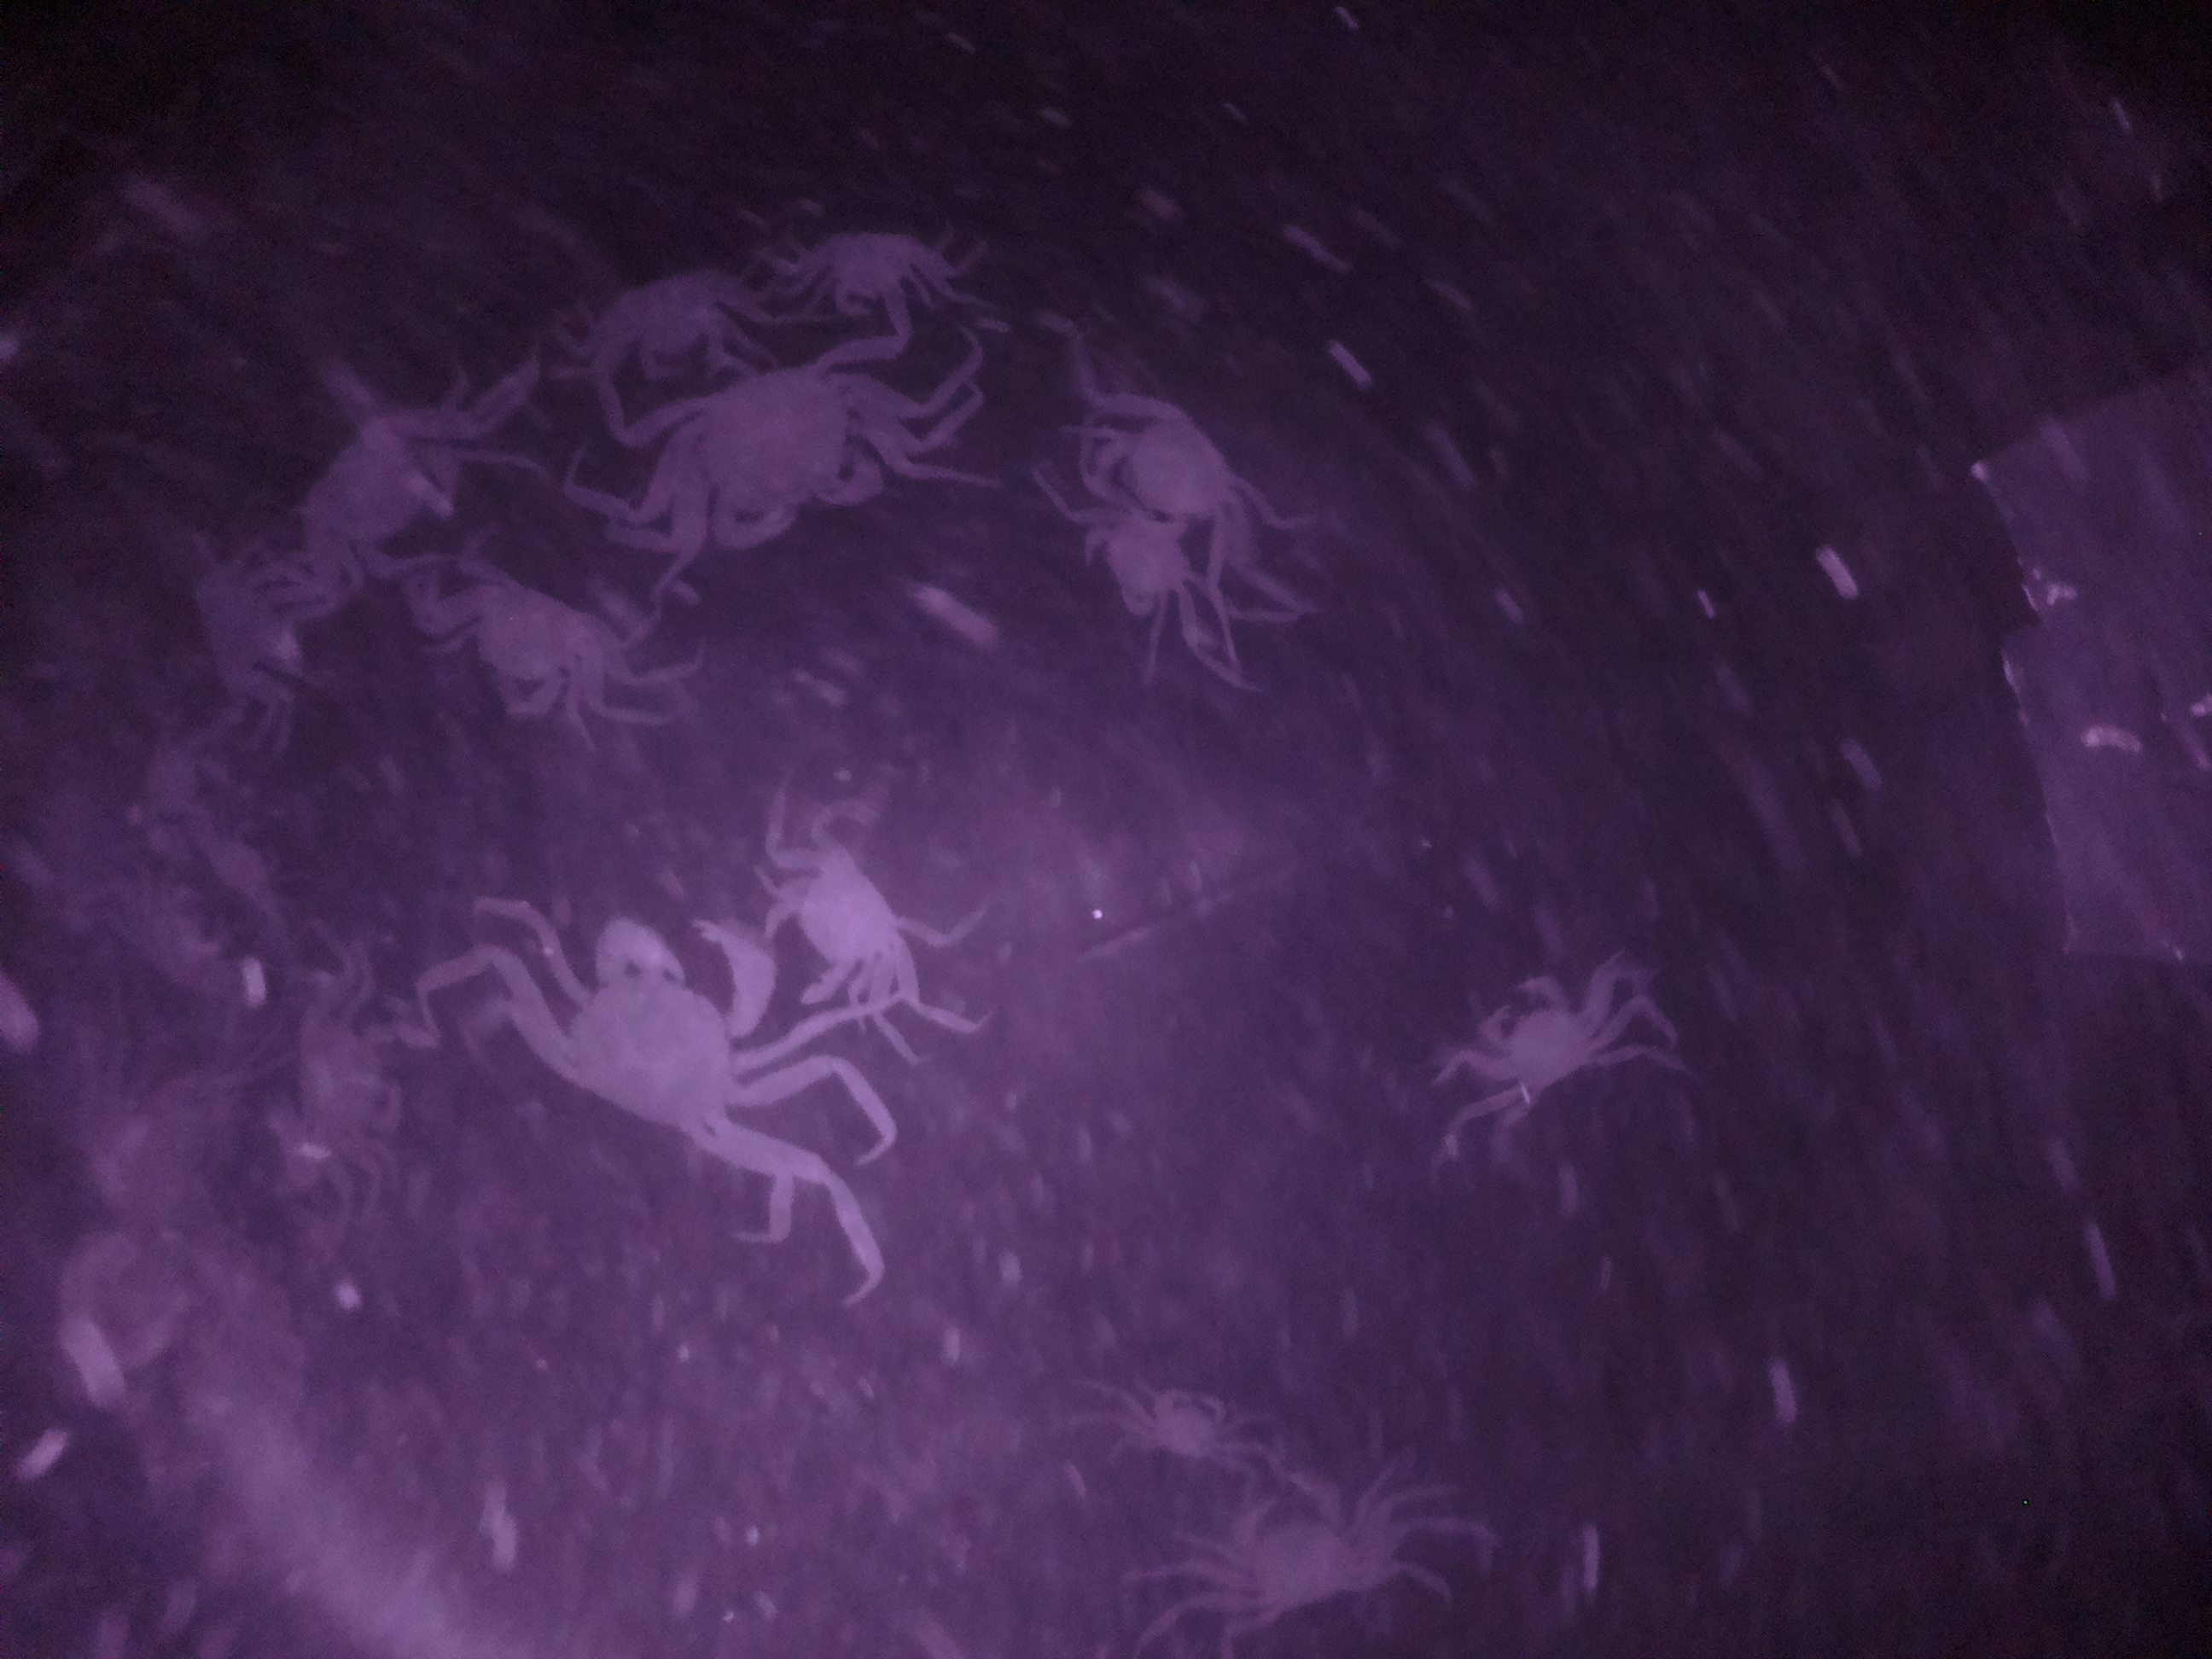Crab: (523, 906, 782, 1164), (655, 338, 899, 570), (766, 803, 939, 1049), (1197, 1452, 1404, 1643), (1463, 960, 1616, 1140), (1090, 486, 1202, 624), (1122, 1378, 1247, 1478)
